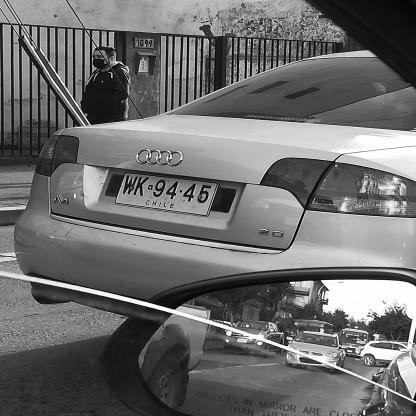Patente: (113, 167, 223, 220)
